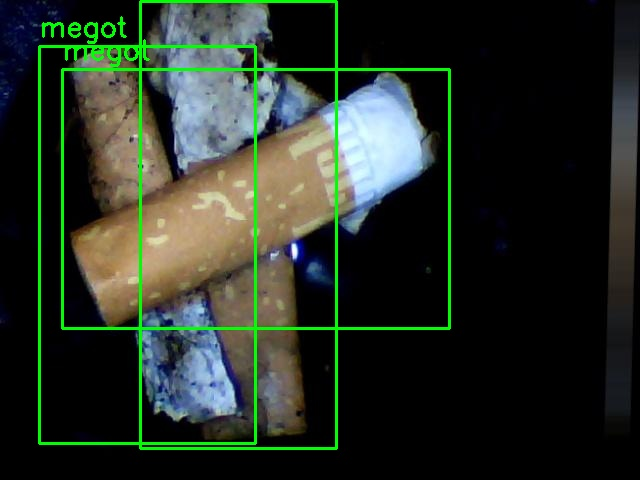megot: (62, 69, 449, 328), (140, 1, 336, 448), (39, 46, 255, 443)
